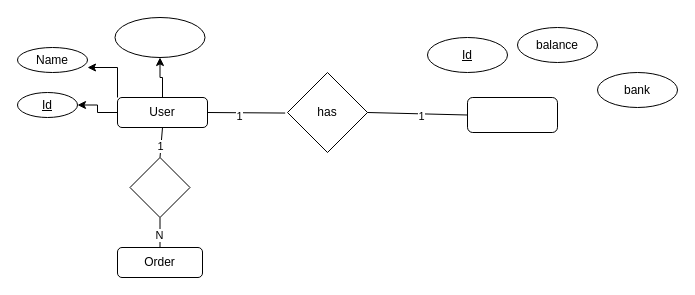
Image size: 695x295. Some labels were removed from this diagram. The centre of each missing label's shape, as x and y in pixels:
Make: point 159,187
Password: point 159,37
Wallet: point 512,114
